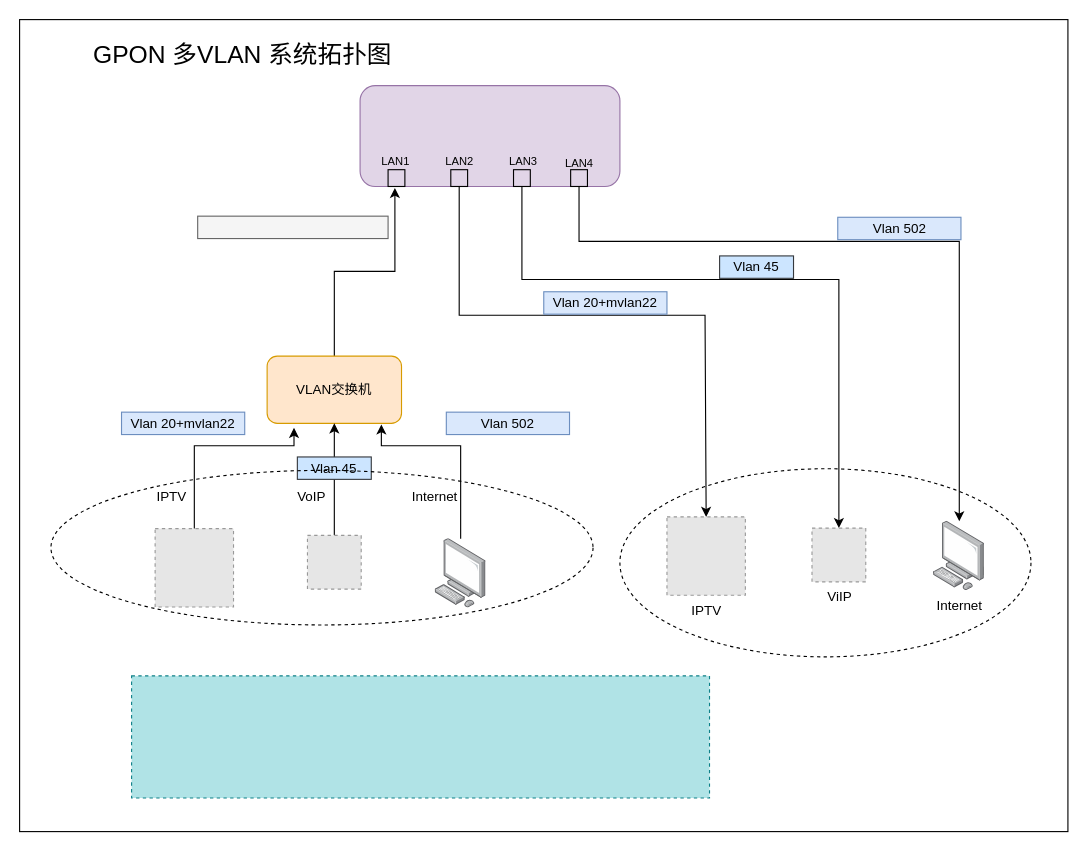
The diagram is 1088 pixels wide and 851 high, and some of its shapes have lost their labels. Grey dashed boxes stand in for pictures. Here are the shapes that lost their labels. From the top down, the box of each, then its label:
(359, 85, 620, 186): ONU
(197, 215, 388, 239): LANx（某一个口，同一个）
(130, 675, 710, 798): 测试说明 1. 连接VLAN交换机测试时，需要三种业务同时进行。 2. 单独连接ONU的lan2，LAN3，LAN4口测试时，业务也必须正常；
